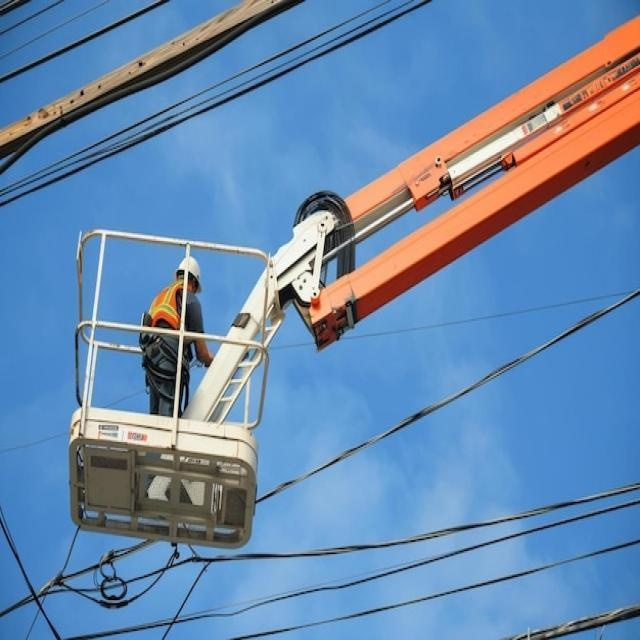Arnes_seguridad: (140, 313, 190, 399)
